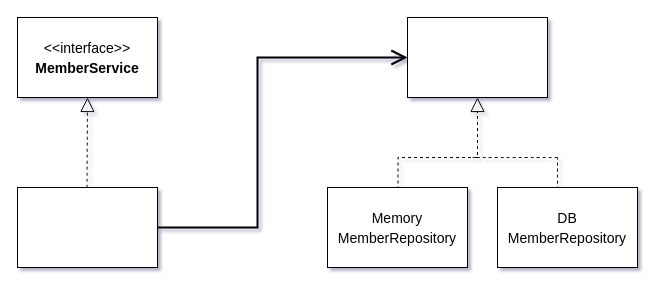
Some shapes in this 661 by 291 pixel diagram are drawn without their labels. The centre of each missing label's shape, as x and y in pixels:
"<<interface>> MemberRepository" goes at point 477,57.
"MemberServiceImpl" goes at point 87,227.
